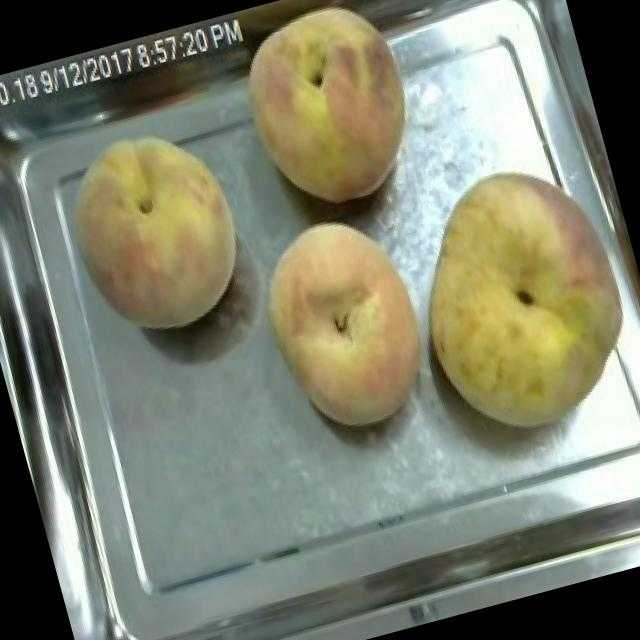Fruit: (379, 132, 640, 460), (40, 103, 268, 360), (240, 196, 453, 449), (216, 0, 443, 230)
